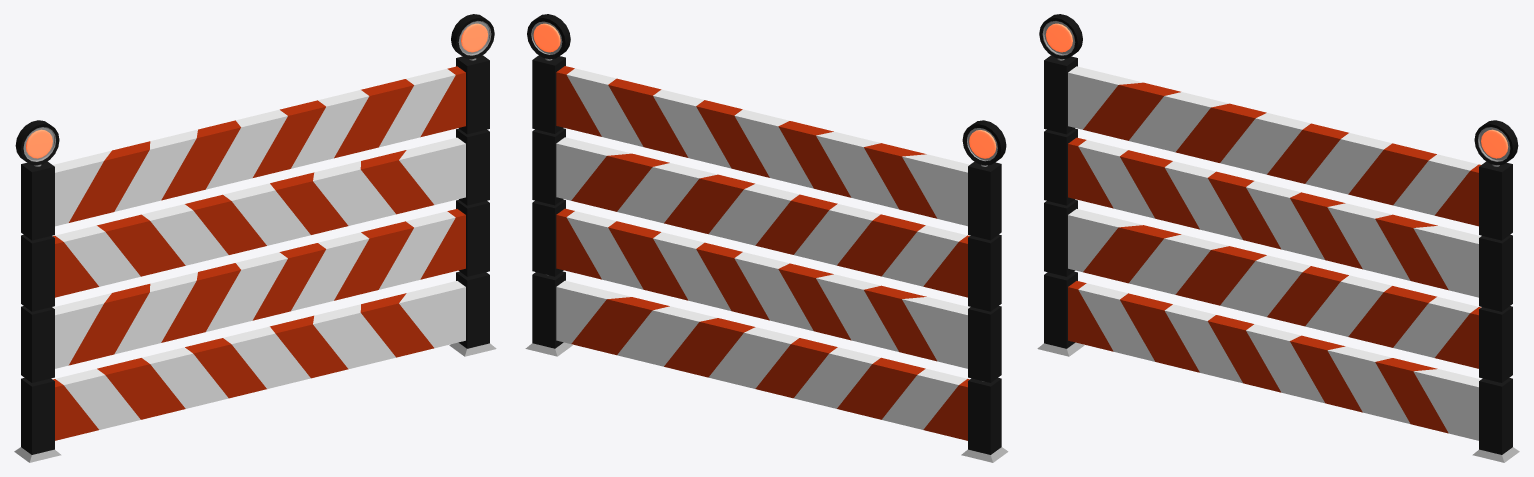
Rendered from roadblock.fbx.
3 renders of one model, left to right at view 1: azimuth 30°, elevation 25°; view 2: azimuth 150°, elevation 25°; view 3: azimuth 330°, elevation 25°, orthographic.
Parts seen in each view (by area): view 1: Cylinder061; view 2: Cylinder061; view 3: Cylinder061.
Part boxes in pixels (left/top/right/bottom): Cylinder061: left=14, top=14, right=496, bottom=462; Cylinder061: left=525, top=14, right=1008, bottom=462; Cylinder061: left=1037, top=14, right=1519, bottom=462.
Bounding box in the file's own units: 300 × 200 × 17.02.
